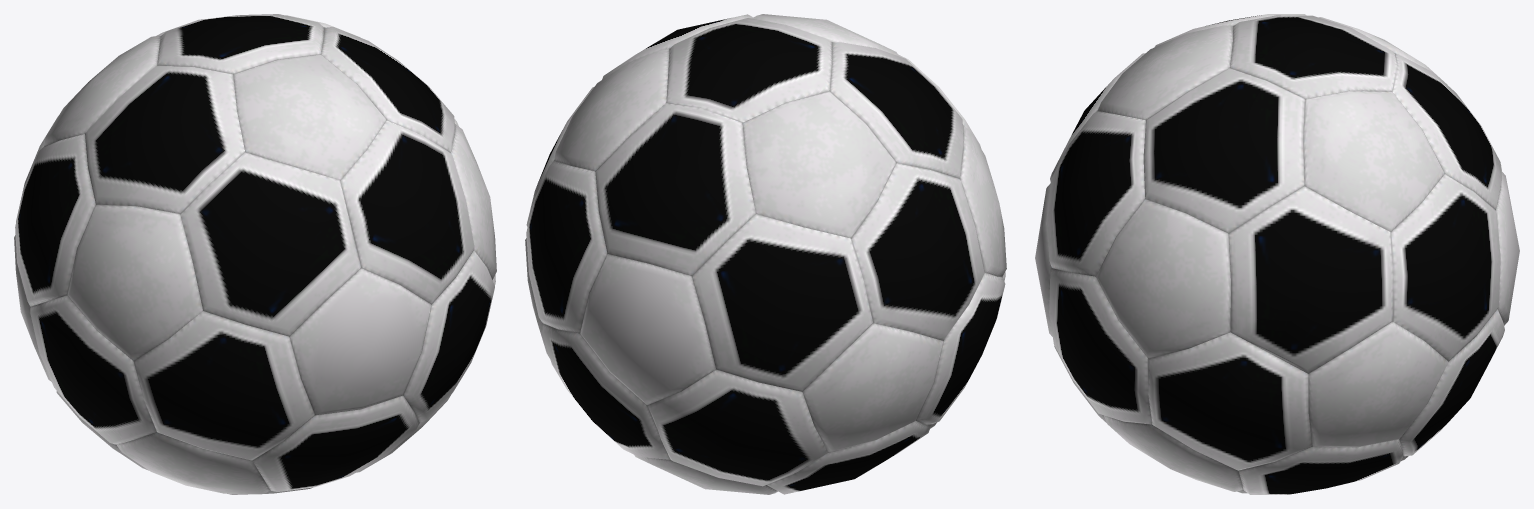
The model's file is bola.FBX.
3 views of the same model, side by side, from view 1: azimuth 30°, elevation 25°; view 2: azimuth 150°, elevation 25°; view 3: azimuth 270°, elevation 25° (orthographic).
Visible parts, largest first — view 1: FIFA 08 D8; view 2: FIFA 08 D8; view 3: FIFA 08 D8.
Boxes of the visible parts, x1,y1,x2,y2 form: FIFA 08 D8: (14, 14, 496, 494); FIFA 08 D8: (525, 14, 1006, 494); FIFA 08 D8: (1035, 14, 1519, 494).
Bounding box in the file's own units: 9.02 × 8.99 × 9.06.
